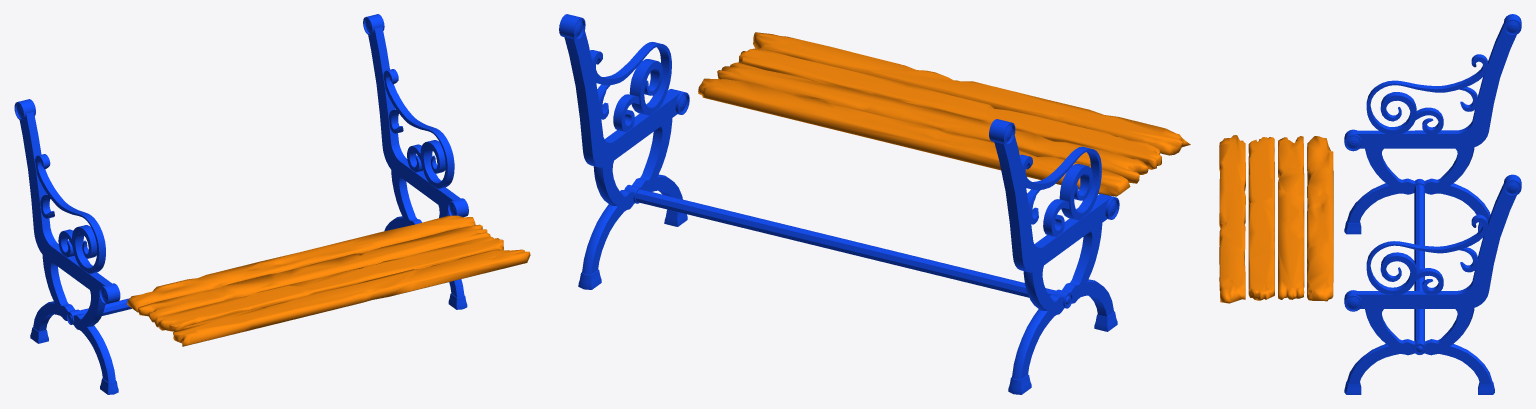
File: SM_bench.fbx
3 renders of one model, left to right at view 1: azimuth 30°, elevation 25°; view 2: azimuth 150°, elevation 25°; view 3: azimuth 270°, elevation 25°, orthographic. The views are drawn at different scales.
Visible parts, largest first — view 1: wood_001_low, side_low, moonyang_low, wood_002_low, wood_003_low, wood_004_low, leg_low, hand_low, under_low; view 2: side_low, leg_low, wood_004_low, wood_001_low, wood_002_low, moonyang_low, wood_003_low, under_low, hand_low; view 3: side_low, leg_low, moonyang_low, wood_001_low, wood_002_low, wood_004_low, wood_003_low, under_low, hand_low.
Part boxes in pixels (bbox=[...]): wood_001_low: bbox=[173, 249, 530, 346]; side_low: bbox=[19, 27, 461, 296]; moonyang_low: bbox=[35, 69, 454, 273]; wood_002_low: bbox=[154, 236, 503, 331]; wood_003_low: bbox=[138, 224, 490, 322]; wood_004_low: bbox=[127, 215, 475, 312]; leg_low: bbox=[30, 170, 467, 394]; hand_low: bbox=[14, 14, 468, 304]; under_low: bbox=[66, 298, 131, 324]; side_low: bbox=[564, 30, 1110, 272]; leg_low: bbox=[578, 118, 1117, 394]; wood_004_low: bbox=[698, 78, 1130, 196]; wood_001_low: bbox=[753, 32, 1190, 155]; wood_002_low: bbox=[738, 48, 1161, 169]; moonyang_low: bbox=[590, 42, 1101, 236]; wood_003_low: bbox=[717, 62, 1148, 183]; under_low: bbox=[624, 185, 1072, 308]; hand_low: bbox=[559, 14, 1119, 219]; side_low: bbox=[1353, 23, 1516, 308]; leg_low: bbox=[1344, 147, 1494, 394]; moonyang_low: bbox=[1366, 54, 1487, 294]; wood_001_low: bbox=[1219, 135, 1245, 303]; wood_002_low: bbox=[1248, 137, 1274, 300]; wood_004_low: bbox=[1307, 136, 1333, 301]; wood_003_low: bbox=[1278, 136, 1304, 299]; under_low: bbox=[1413, 179, 1425, 354]; hand_low: bbox=[1344, 14, 1521, 311].
Size of the model in its own units: 148 by 89.38 by 114.
